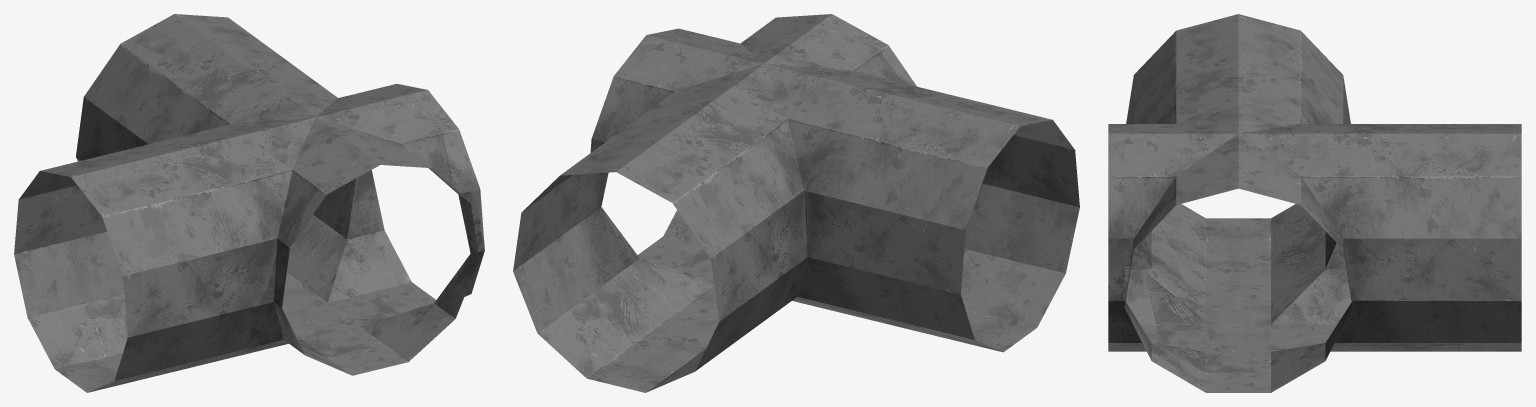
The model's file is Pipe_curve.fbx.
3 views of the same model, side by side, from view 1: azimuth 30°, elevation 25°; view 2: azimuth 150°, elevation 25°; view 3: azimuth 270°, elevation 25° (orthographic). The views are drawn at different scales.
Parts seen in each view (by area): view 1: polySurface12; view 2: polySurface12; view 3: polySurface12.
Part boxes in pixels (bbox=[...]): polySurface12: bbox=[14, 14, 484, 392]; polySurface12: bbox=[513, 14, 1079, 392]; polySurface12: bbox=[1108, 14, 1521, 392].
Bounding box in the file's own units: 1 × 0.5459 × 1.
Materials: 1 (1 with a texture image).
